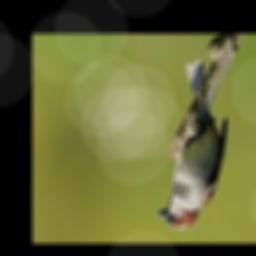Sparrow: (159, 60, 229, 230)
